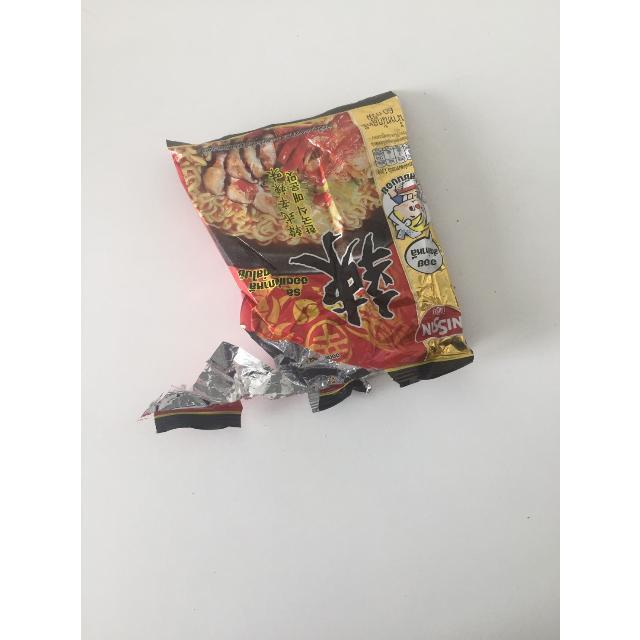Bolsa-de-plastico: (155, 87, 483, 435)
